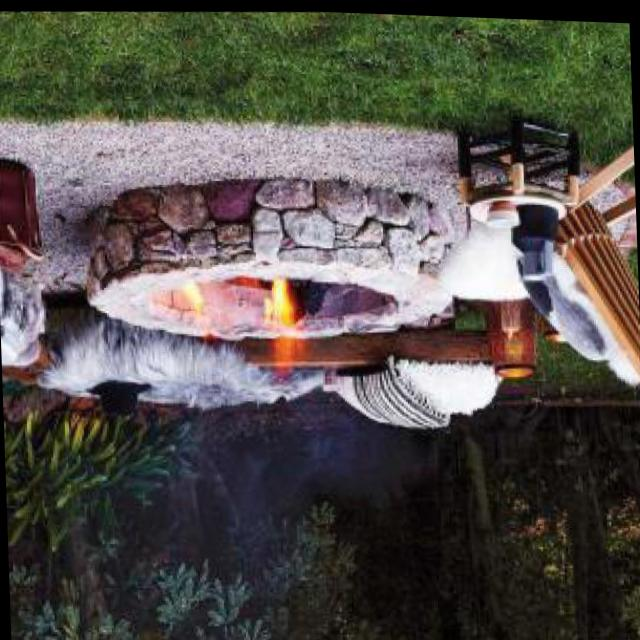Fire: (256, 273, 306, 371), (176, 279, 216, 337)
